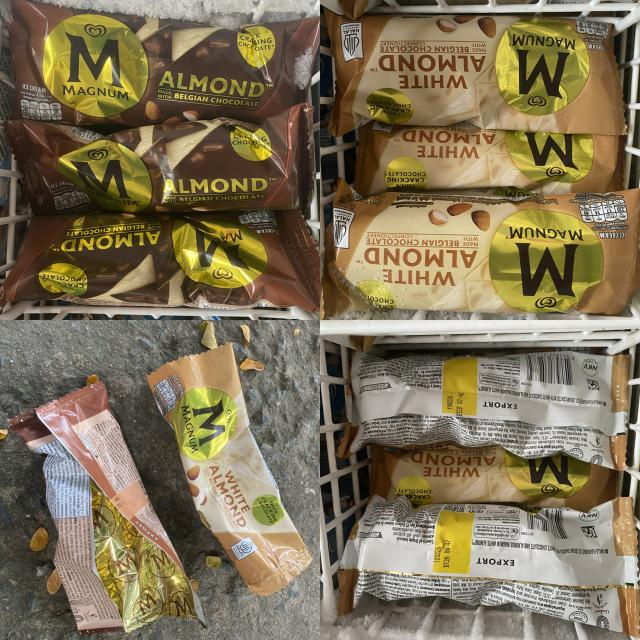plastik: (9, 382, 208, 634), (322, 181, 640, 316), (339, 495, 640, 637), (146, 344, 311, 595), (9, 0, 319, 126), (325, 10, 625, 136), (340, 351, 629, 470), (5, 104, 314, 215), (0, 210, 320, 311), (355, 121, 622, 196), (370, 445, 616, 511)
